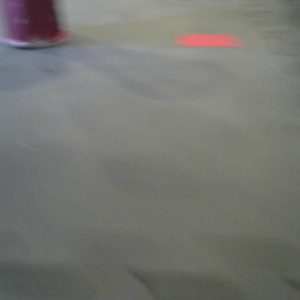right: (1, 1, 73, 49)
